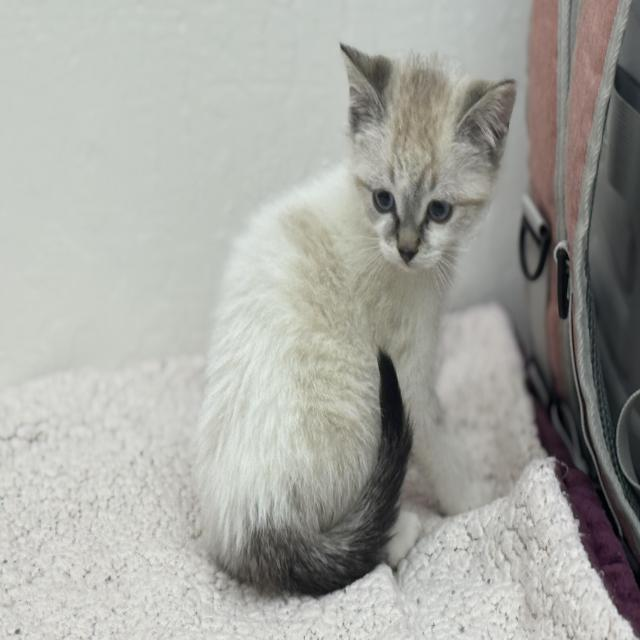siamese_cat: (325, 24, 528, 289)
